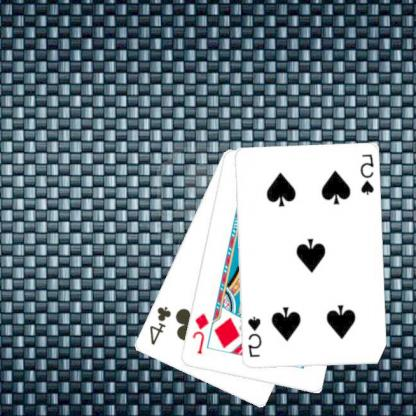4C: (148, 303, 174, 347)
5S: (246, 314, 265, 360), (358, 152, 376, 198)
JD: (191, 310, 212, 356)
